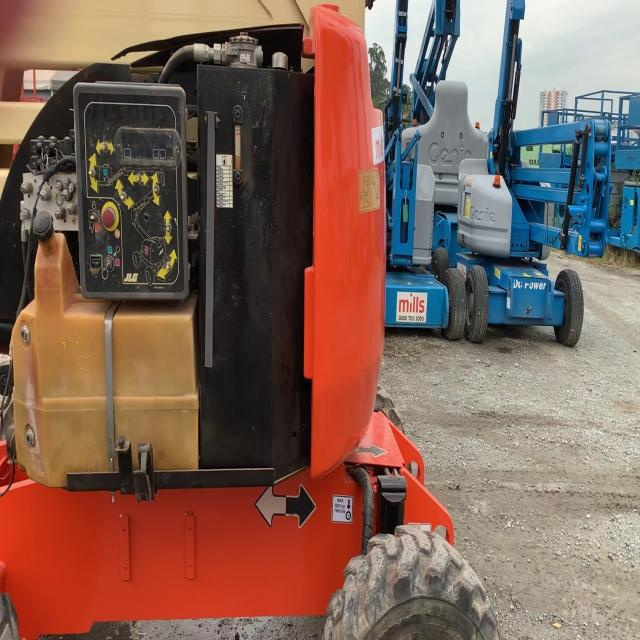Adesivos: (395, 290, 428, 324)
